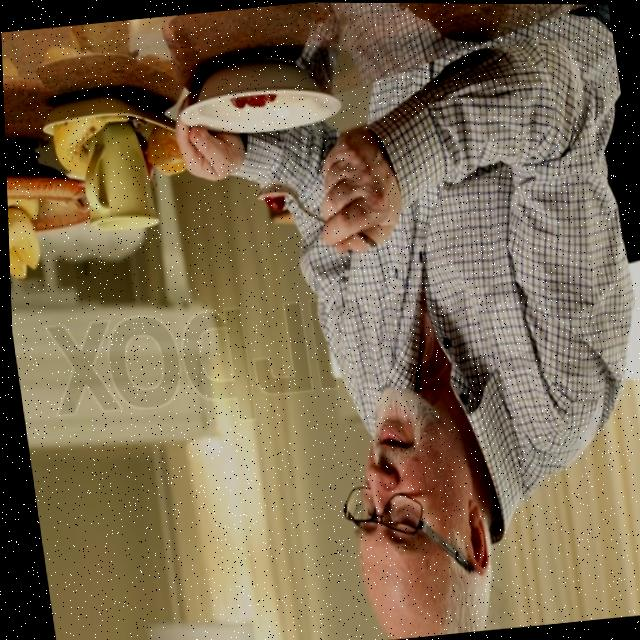eating-person: (1, 3, 640, 640)
